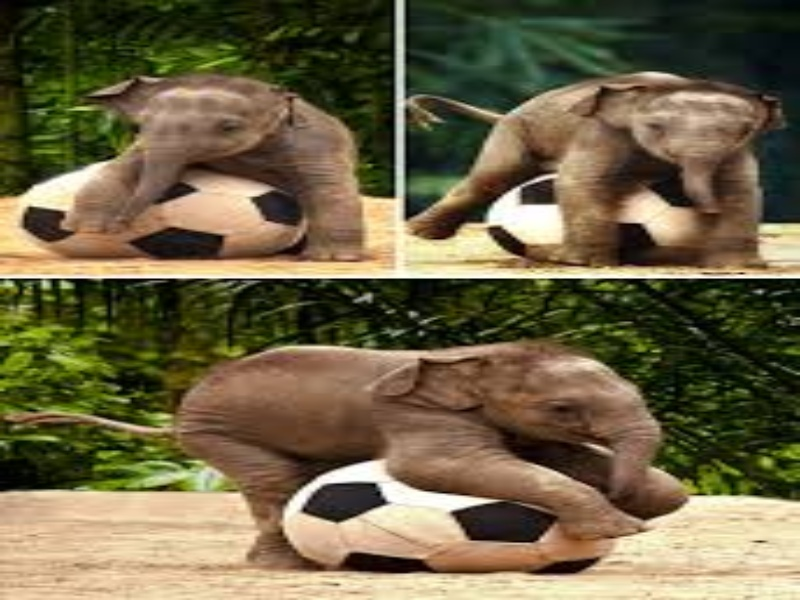elephant: (179, 333, 686, 525), (49, 58, 373, 237), (458, 48, 782, 227)
